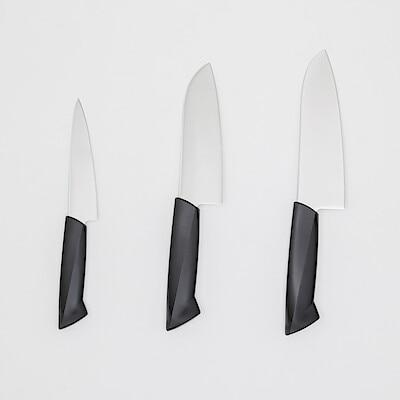Knife: (284, 48, 345, 335), (165, 62, 223, 330), (58, 98, 98, 329)
